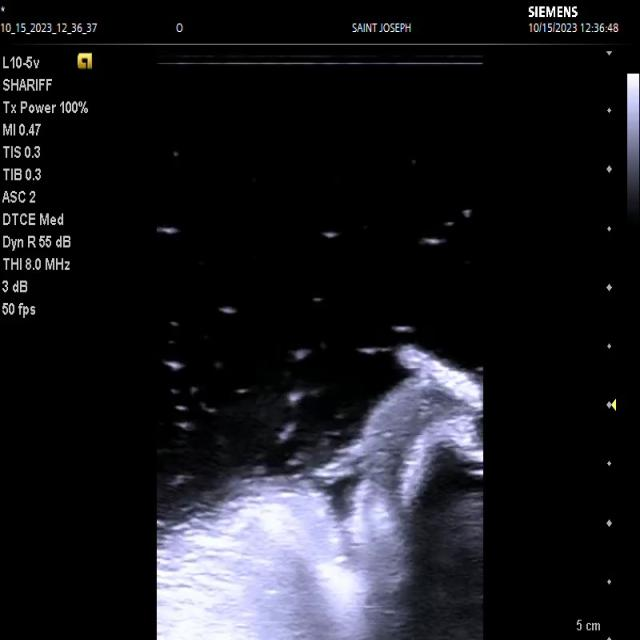tissue: (158, 348, 481, 640)
